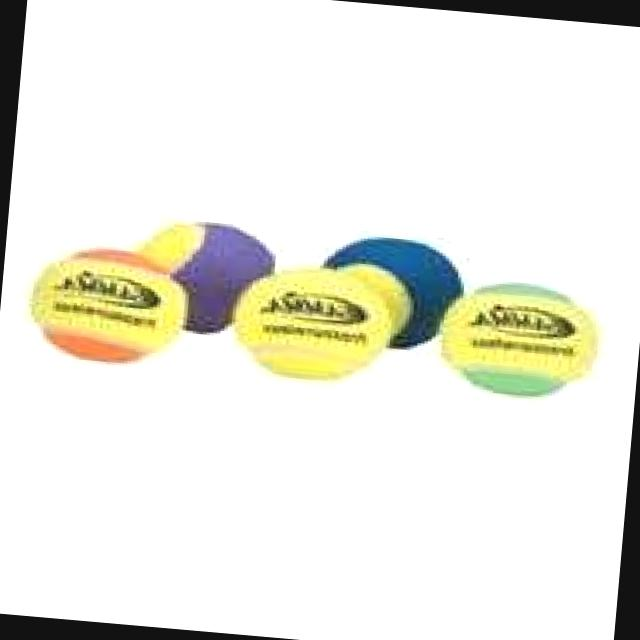Tennis Ball: (440, 281, 598, 399), (30, 249, 189, 366), (232, 269, 391, 382), (323, 235, 464, 352), (140, 222, 278, 337)
